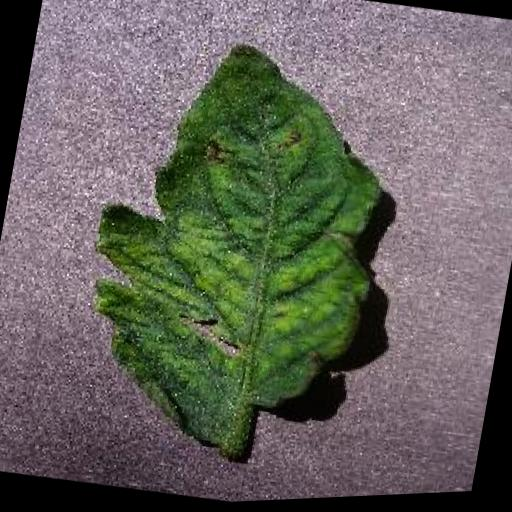Mosaic Virus: (60, 14, 412, 475)
